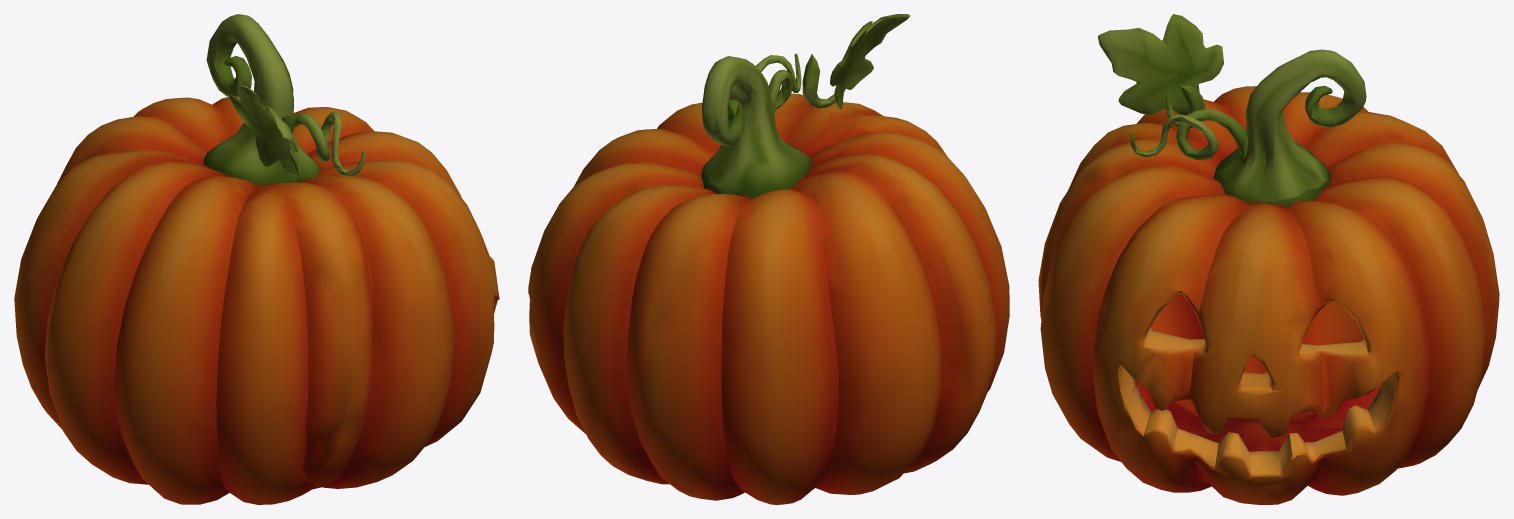
File: H1_JackLanternBig_LOD1.fbx
The picture shows the model from 3 angles, left to right: view 1: azimuth 30°, elevation 25°; view 2: azimuth 150°, elevation 25°; view 3: azimuth 270°, elevation 25°; orthographic projection.
Parts seen in each view (by area): view 1: H1_JackLanternBig_LOD1; view 2: H1_JackLanternBig_LOD1; view 3: H1_JackLanternBig_LOD1.
Boxes of the visible parts, x1,y1,x2,y2 form: H1_JackLanternBig_LOD1: [14, 14, 499, 504]; H1_JackLanternBig_LOD1: [528, 14, 1009, 504]; H1_JackLanternBig_LOD1: [1038, 14, 1499, 504].
Size of the model in its own units: 0.7861 by 0.7497 by 0.7593.
1 material, 1 textured.
